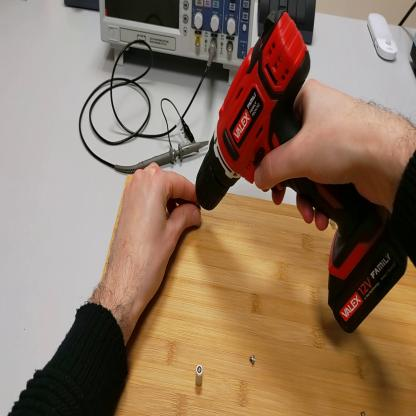electric screwdriver: (187, 2, 411, 337)
hand: (255, 77, 387, 238), (98, 151, 213, 325)
oscilloscope: (100, 2, 255, 81)
oscilloscope probe tip: (132, 137, 208, 180)
socket: (64, 2, 100, 15)
working area: (104, 169, 415, 415)
